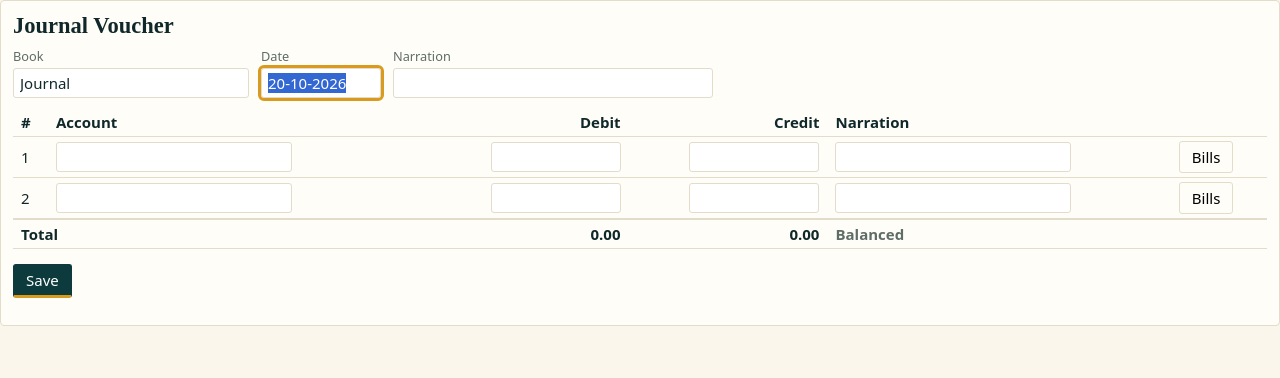
Scenario: journal › refuses an unbalanced journal, then saves once it balances
The width and height of the screenshot is (1280, 378).
expect the dropdown labelled "Book" is shown: met, box [13,68,249,98]
Type keys "12052026{Enter}{Enter}"
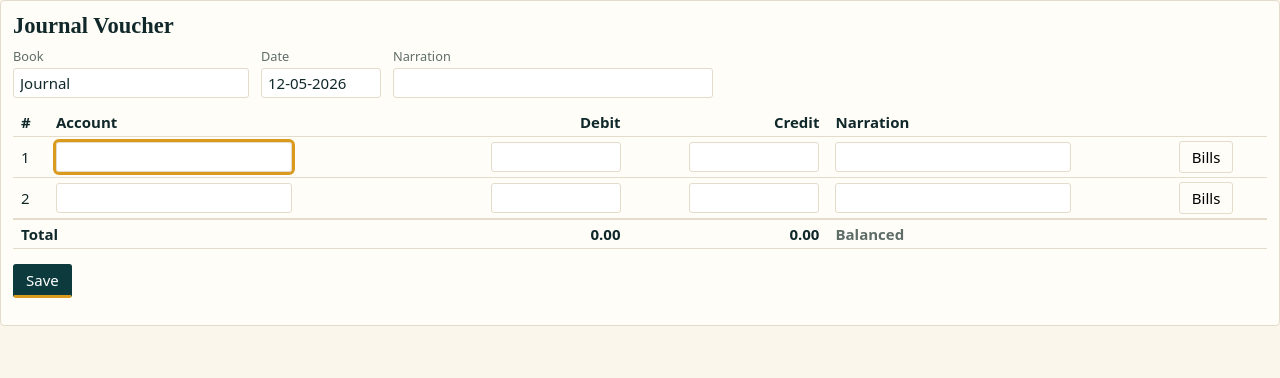
Type keys "ram{Enter}100{Enter}{Enter}"
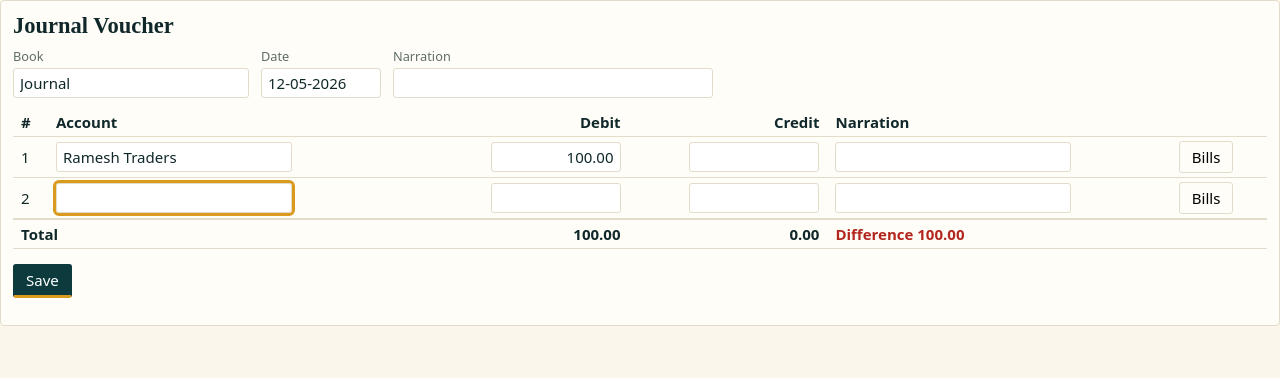
Type keys "cash{Enter}90"
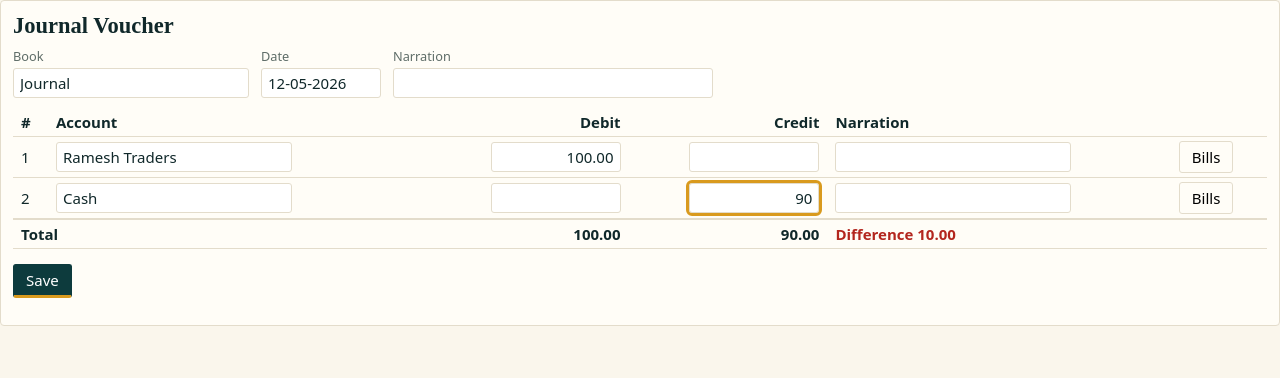
Type keys "{Control>}s{/Control}"
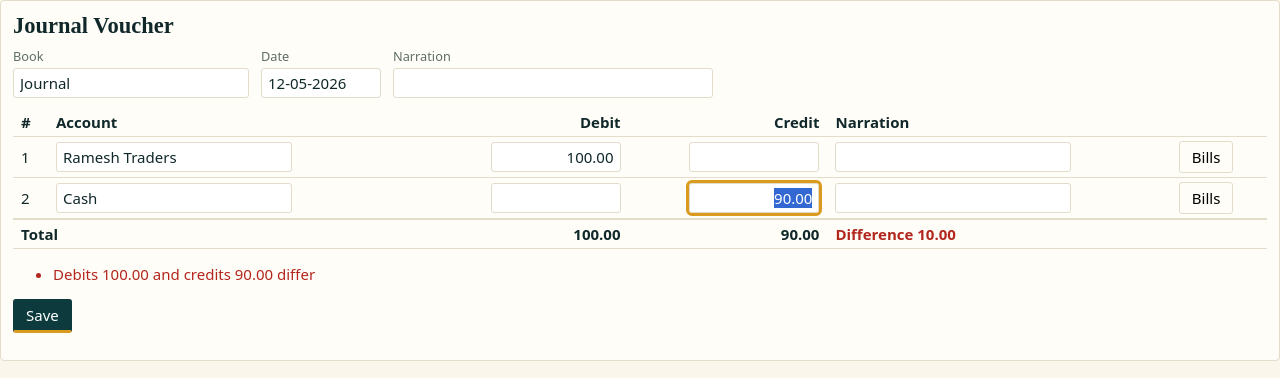
expect the message reads "Debits 100.00 and credits 90.00 differ": met, box [53,264,315,284]
Replace the text in the field named "Credit line 2" with "100" at (754, 198), box [689,183,819,213]
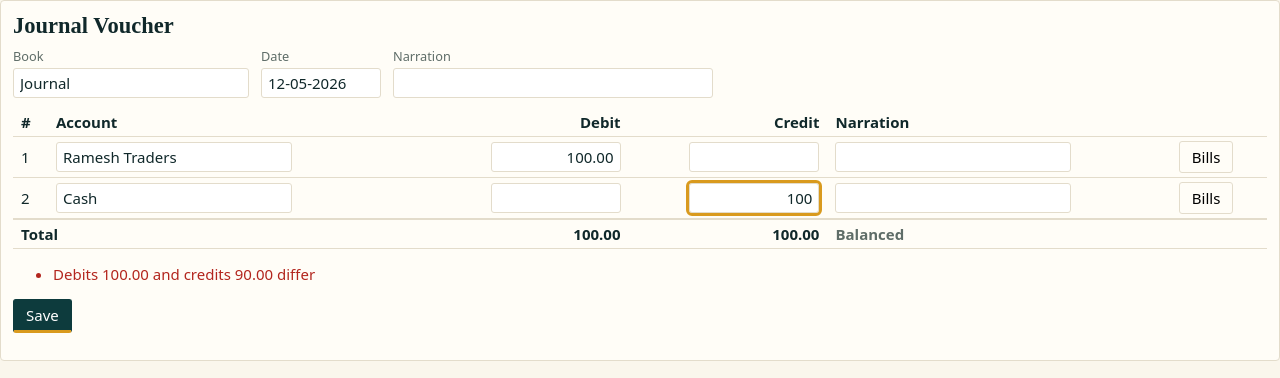
Type keys "{Control>}s{/Control}"
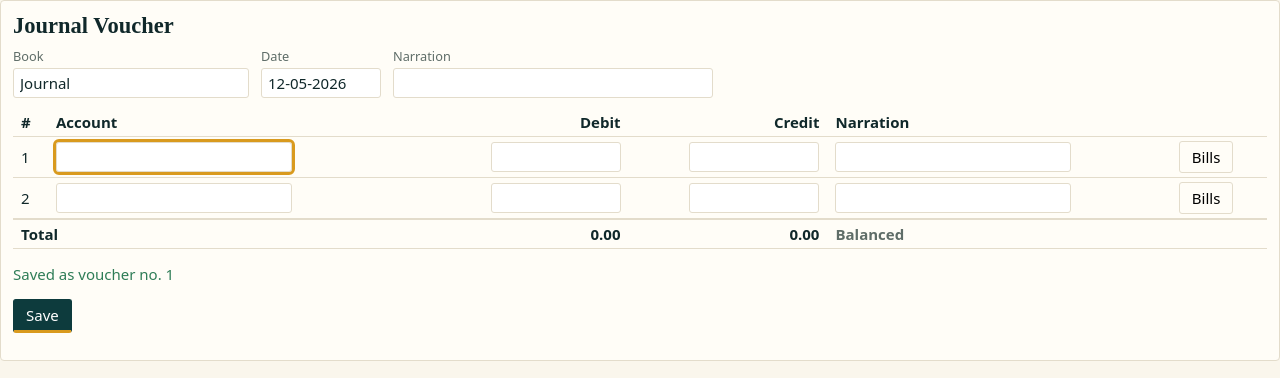
expect the message reads "Saved as voucher no. 1": met, box [13,264,174,284]
